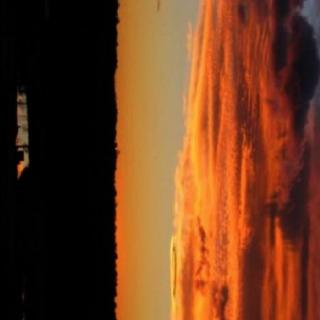Altostratus: (166, 0, 320, 320)
